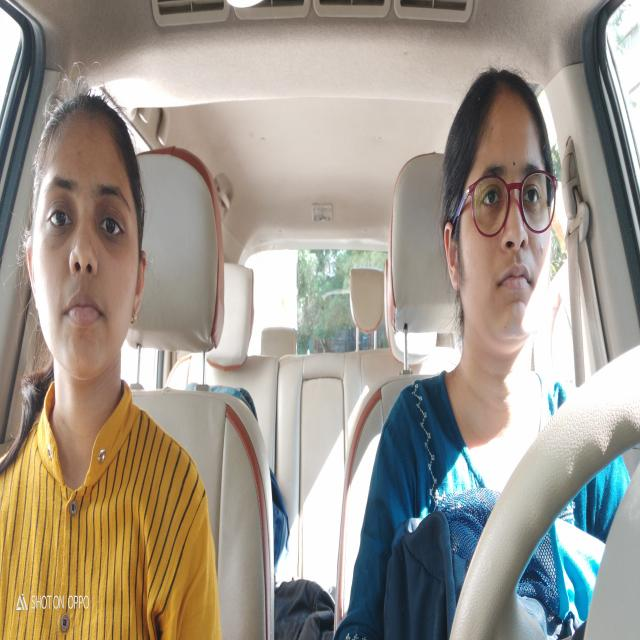person: (24, 78, 150, 401), (439, 72, 562, 354)
